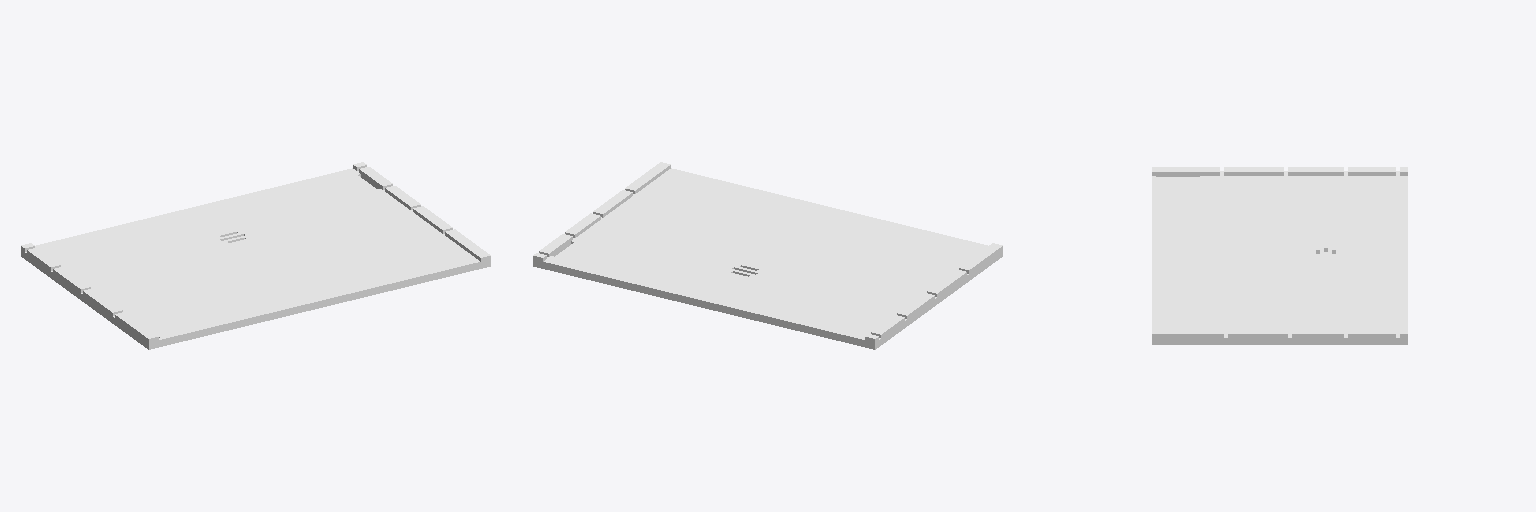
File: LiveFree_VoxelStreet.obj
3 renders of one model, left to right at view 1: azimuth 30°, elevation 25°; view 2: azimuth 150°, elevation 25°; view 3: azimuth 270°, elevation 25°, orthographic.
Visible parts, largest first — view 1: object 1; view 2: object 1; view 3: object 1.
Part boxes in pixels (left/top/right/bottom): object 1: left=21, top=162, right=490, bottom=349; object 1: left=533, top=162, right=1002, bottom=349; object 1: left=1152, top=167, right=1407, bottom=344.
Size of the model in its own units: 9.9 by 0.3 by 6.4.